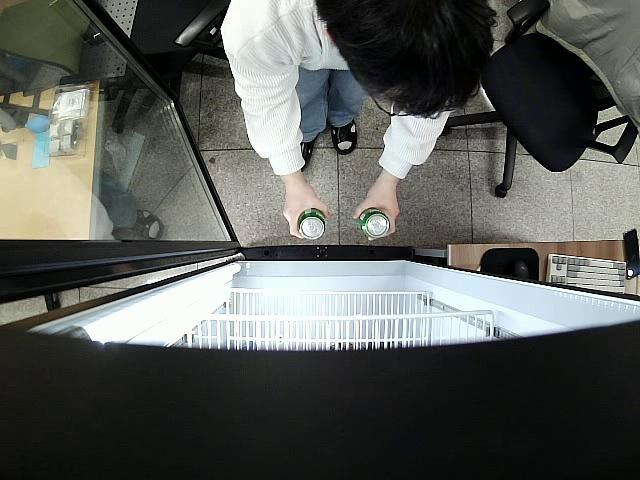12_chilsungCider: (360, 208, 390, 239), (298, 208, 325, 240)
